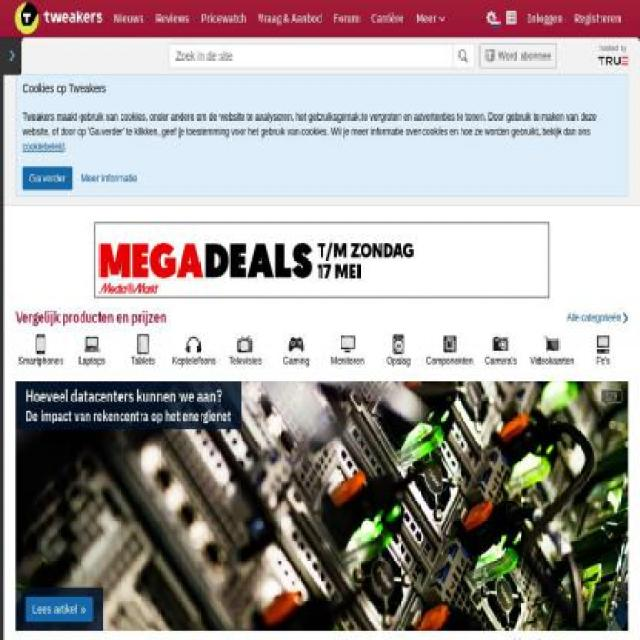button: (15, 380, 628, 637), (252, 0, 328, 37), (568, 0, 627, 37), (196, 0, 252, 37), (479, 44, 558, 68), (168, 333, 220, 369), (424, 333, 476, 369), (15, 333, 66, 369), (66, 333, 117, 369), (220, 333, 271, 369), (373, 333, 424, 369), (527, 333, 578, 369), (118, 333, 168, 369), (272, 333, 322, 369), (322, 333, 372, 369), (476, 333, 526, 369), (578, 333, 628, 369), (522, 0, 568, 37), (150, 0, 195, 37), (365, 0, 410, 37), (25, 597, 93, 621), (108, 0, 149, 37), (411, 0, 451, 37), (328, 0, 366, 37), (80, 167, 138, 190), (22, 167, 73, 190), (482, 4, 502, 31), (502, 4, 522, 31), (601, 389, 622, 408)
field: (170, 44, 452, 68), (452, 44, 474, 68)
